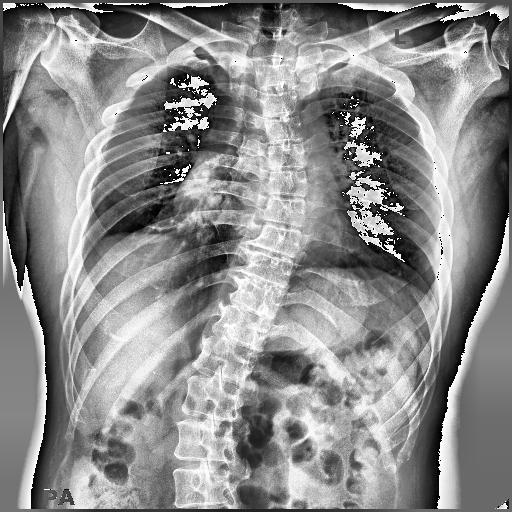0- Aortic enlargement: (262, 93, 327, 152)
11- Pleural thickening: (182, 40, 248, 58)
3- Cardiomegaly: (172, 174, 363, 269), (173, 176, 360, 263)
9- Other lesion: (234, 40, 312, 340), (242, 84, 310, 296), (248, 66, 314, 270)
